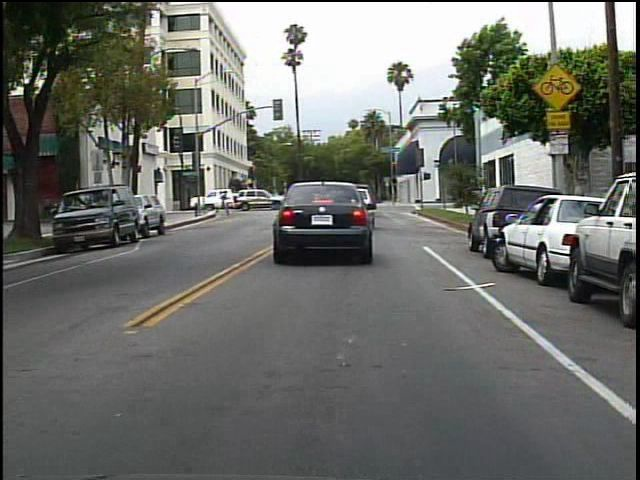person: (214, 187, 233, 218)
